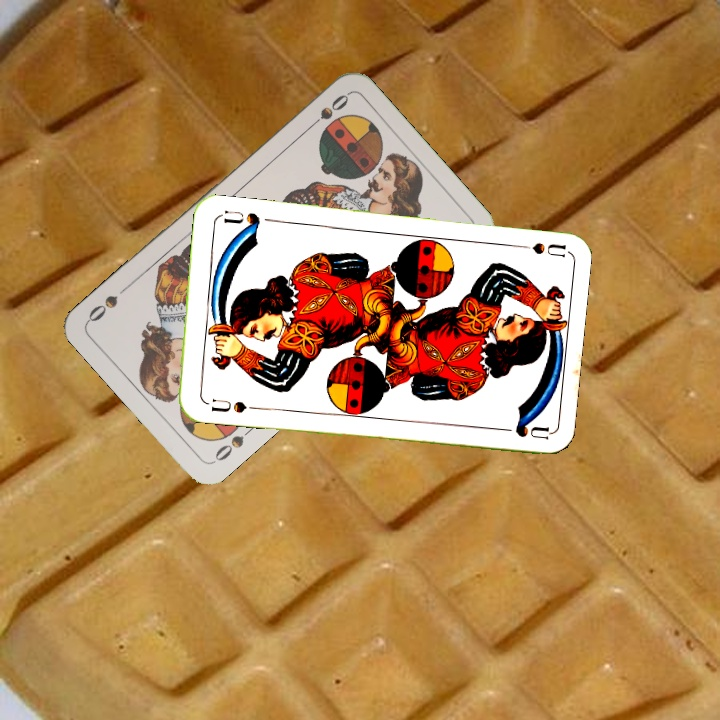SO: (302, 89, 352, 134), (209, 422, 257, 466)
SU: (507, 238, 566, 260), (206, 394, 249, 416)
